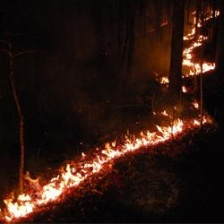fire: (78, 125, 172, 177), (181, 11, 217, 125), (2, 165, 72, 216)
